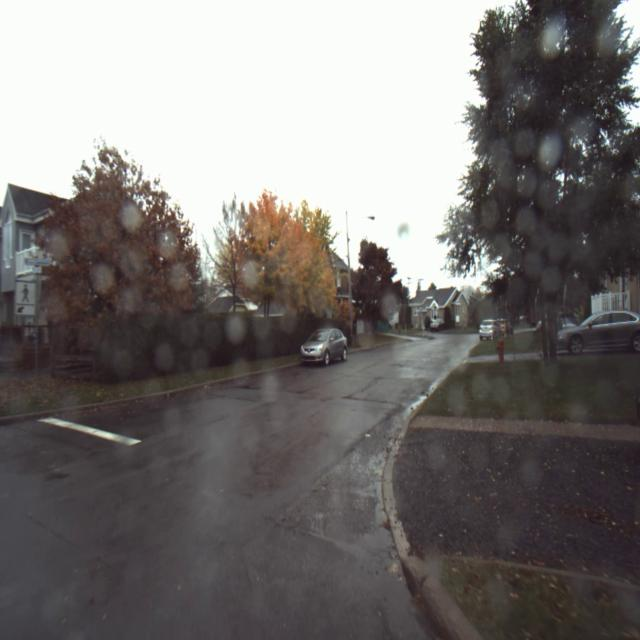car: (296, 324, 350, 370)
